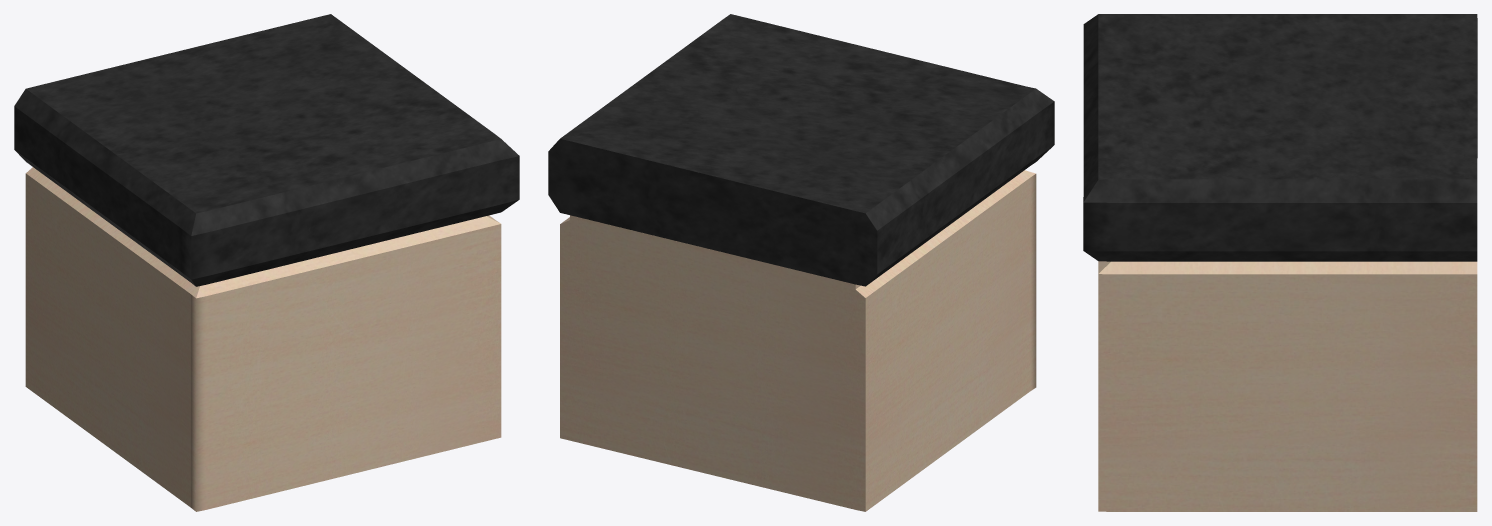
File: top_lonely.FBX
3 renders of one model, left to right at view 1: azimuth 30°, elevation 25°; view 2: azimuth 150°, elevation 25°; view 3: azimuth 270°, elevation 25°, orthographic. The views are drawn at different scales.
Visible parts, largest first — view 1: top_lonely; view 2: top_lonely; view 3: top_lonely.
Part boxes in pixels (box(x1,y1,x2,y2)): top_lonely: box(14, 14, 519, 511); top_lonely: box(548, 14, 1054, 511); top_lonely: box(1083, 14, 1477, 511).
Size of the model in its own units: 1.15 by 1.08 by 1.
1 material, 1 textured.
